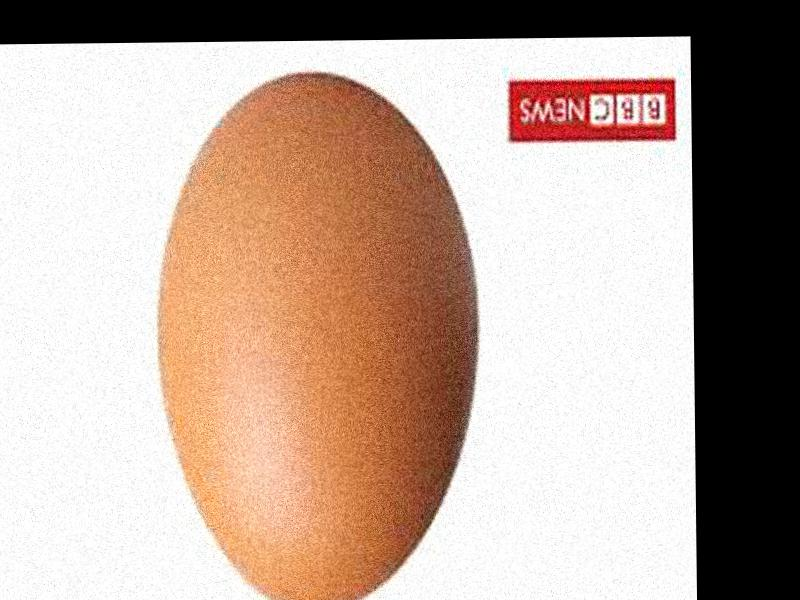Eggs: (154, 74, 480, 600)
